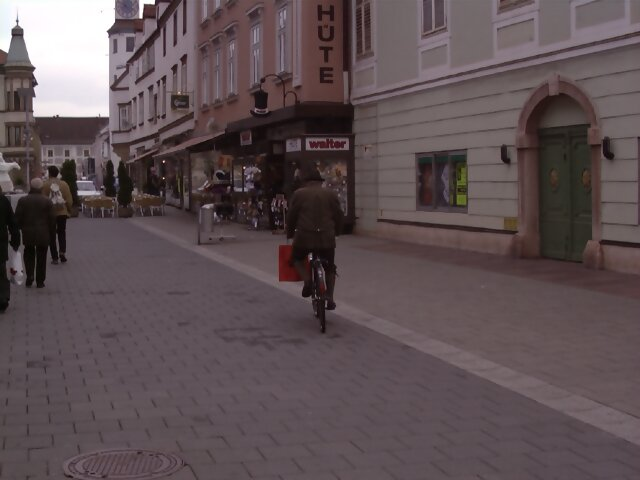person: (271, 162, 363, 340)
